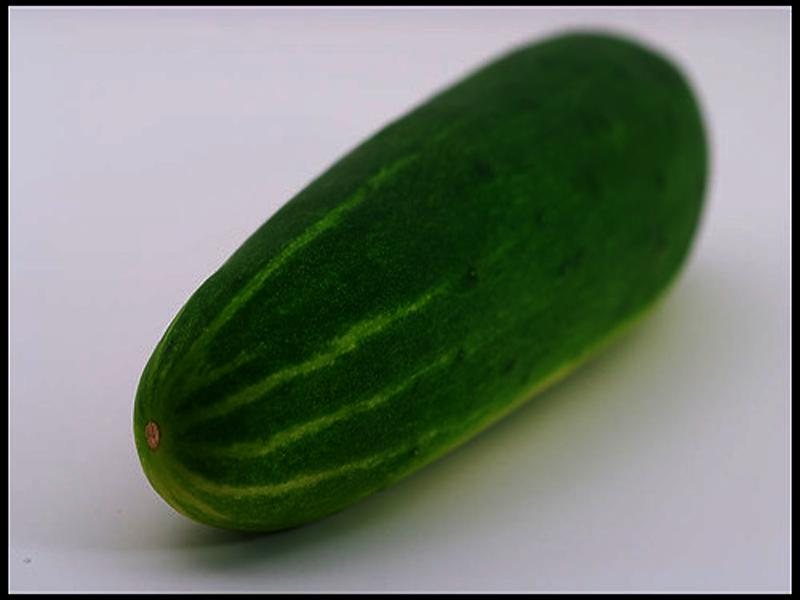Cucumber: (134, 32, 707, 532)
